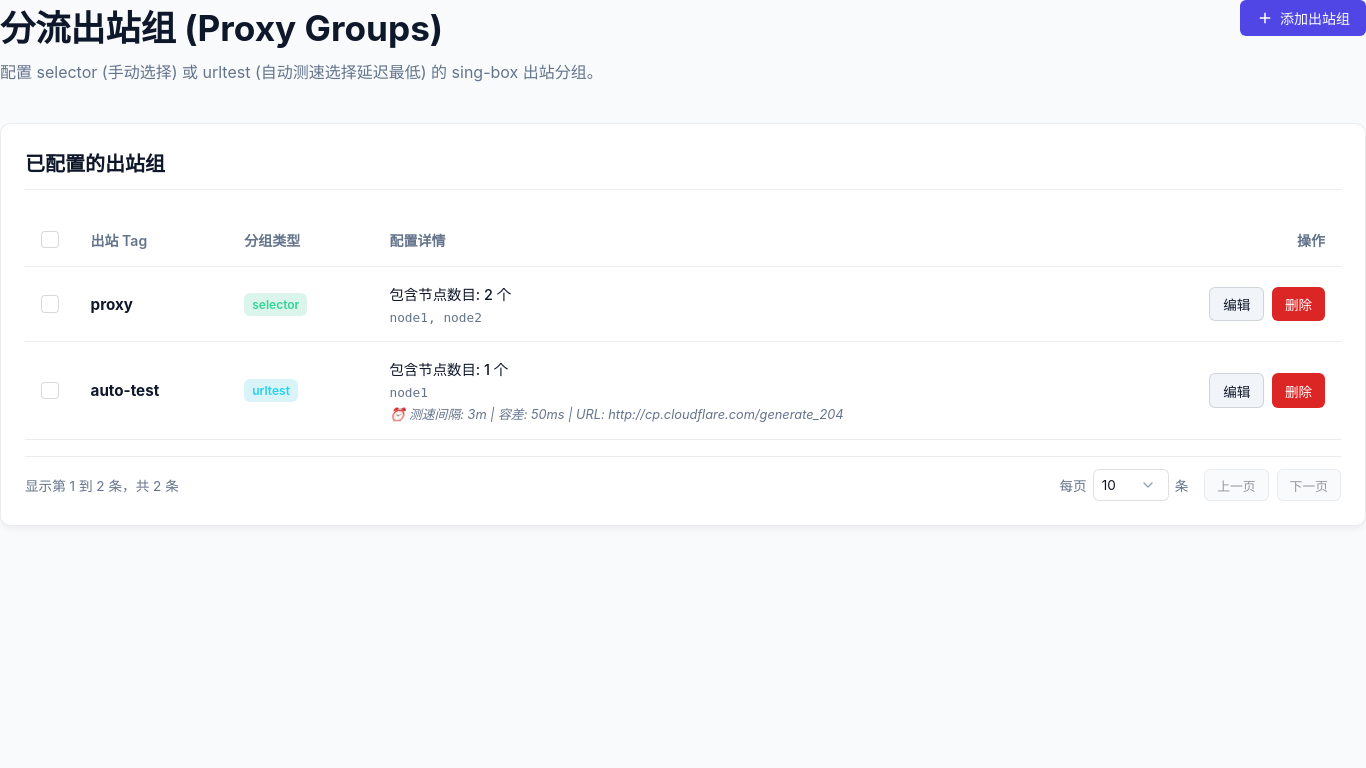
it: GroupsView - 分流出站组管理 › 节点/出站组选择框增强筛选功能 › 只筛选节点 vs 只筛选出站组
The image size is (1366, 768).
Click the button "添加出站组" at point(1303, 18), box x1=1240 y1=0 x2=1365 y2=36
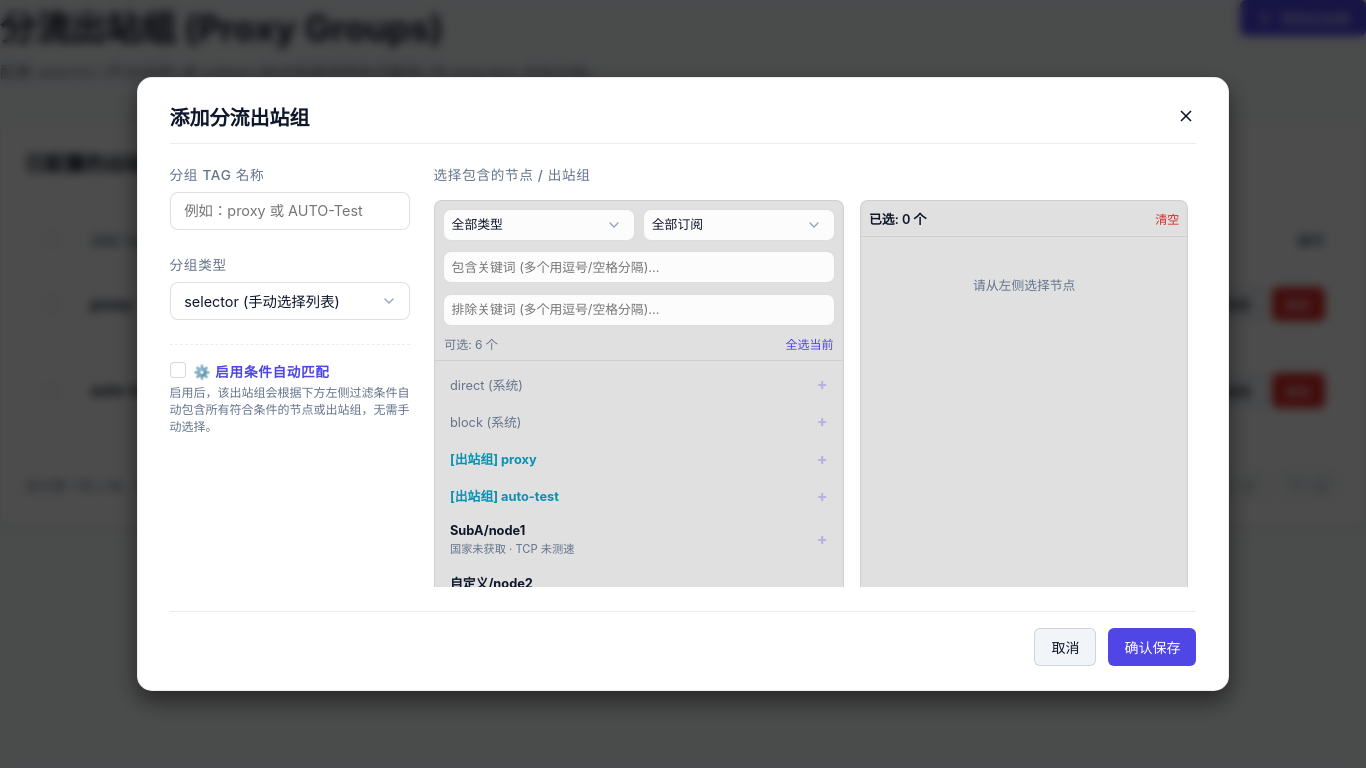
//  筛选"仅节点"
Select "仅节点" in the 1st dropdown at point(539, 225), box x1=443 y1=209 x2=635 y2=241
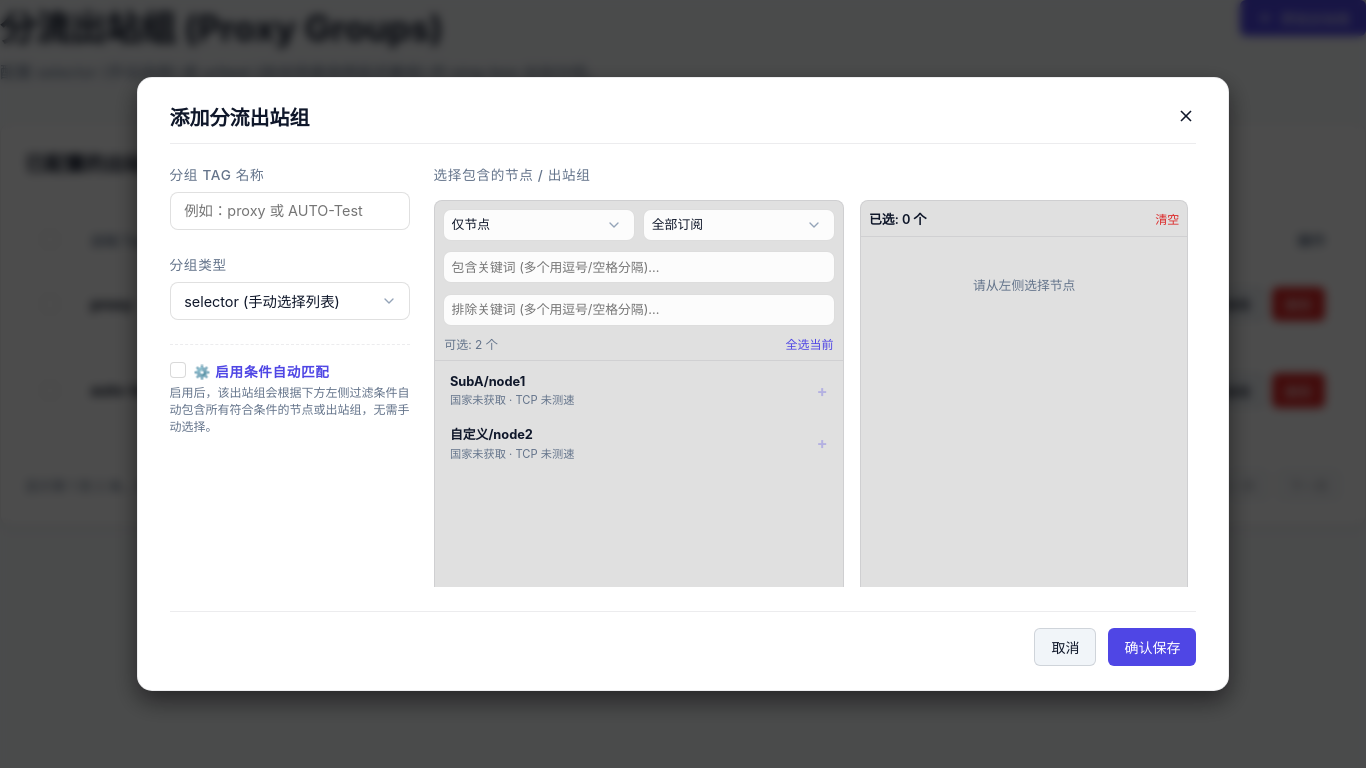
Check: the text "[出站组]" is not shown
Check: the number of elements with class "transfer-available-item" is 2, box x1=441 y1=368 x2=837 y2=414; x1=441 y1=418 x2=837 y2=468
// 筛选"仅出站组"
Select "仅出站组" in the 1st dropdown at point(539, 225), box x1=443 y1=209 x2=635 y2=241
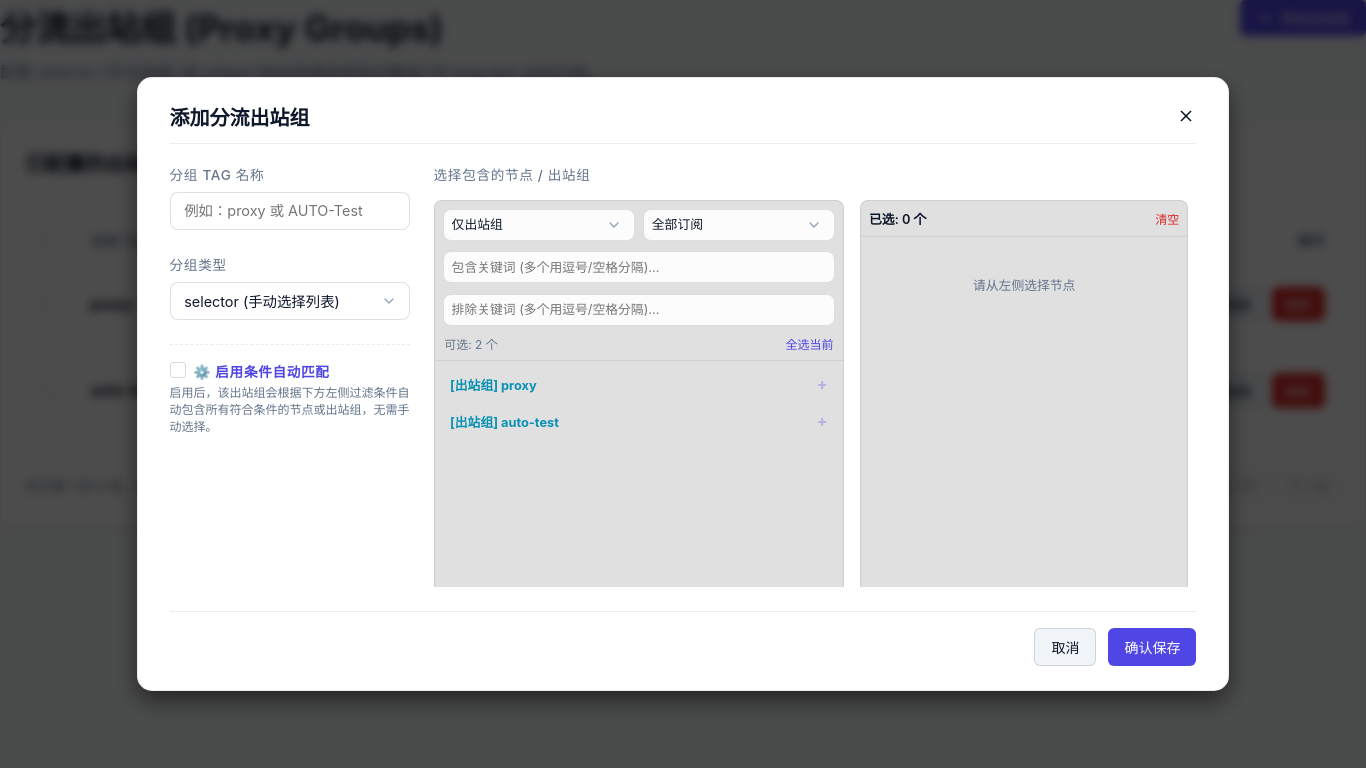
Check: the number of elements with class "transfer-available-item" is 2, box x1=441 y1=368 x2=837 y2=401; x1=441 y1=405 x2=837 y2=438
Check: the element showing "[出站组] proxy + [出站组] auto-test +" is shown, box x1=450 y1=374 x2=828 y2=431
